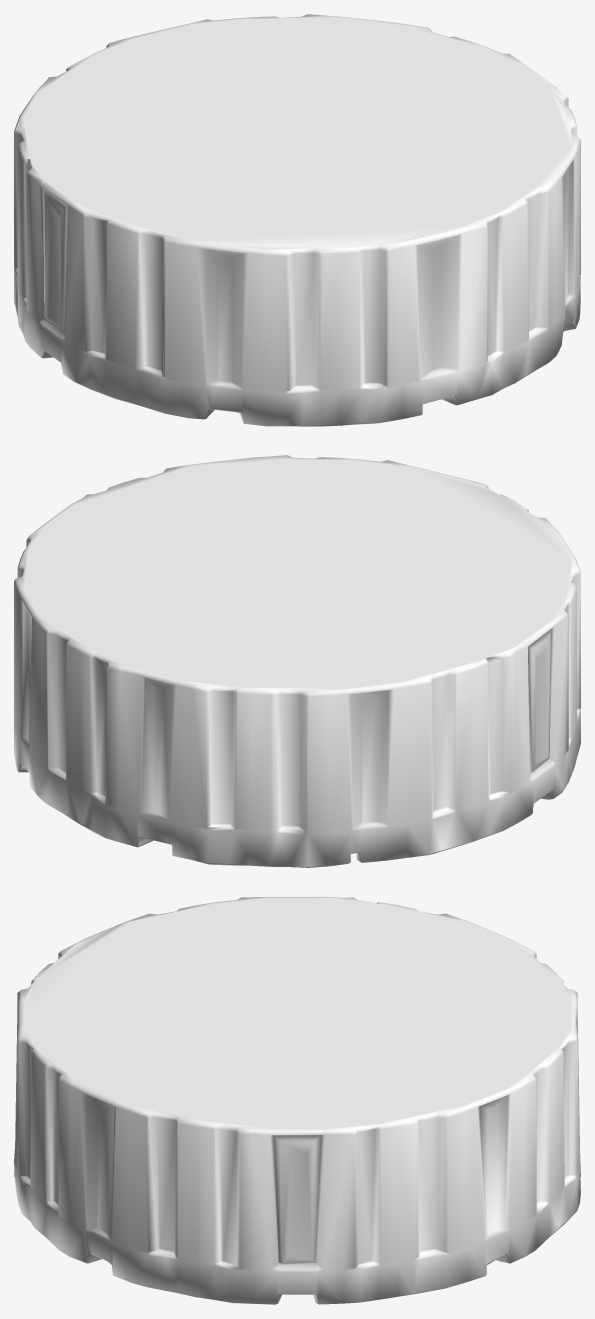
The model's file is Meshy_AI_White_plastic_bottle__0523155411_texture.fbx.
3 views of the same model, one above another, from view 1: azimuth 30°, elevation 25°; view 2: azimuth 150°, elevation 25°; view 3: azimuth 270°, elevation 25° (orthographic).
Parts seen in each view (by area): view 1: Mesh_0; view 2: Mesh_0; view 3: Mesh_0.
Part boxes in pixels (x1,y1,x2,y2): Mesh_0: (14, 14, 580, 426); Mesh_0: (14, 455, 580, 867); Mesh_0: (14, 896, 580, 1304).
Bounding box in the file's own units: 190 × 64.97 × 191.
1 material, 1 textured.
